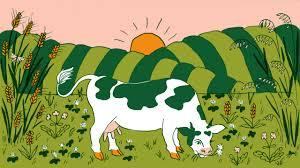cow: (57, 66, 226, 160)
